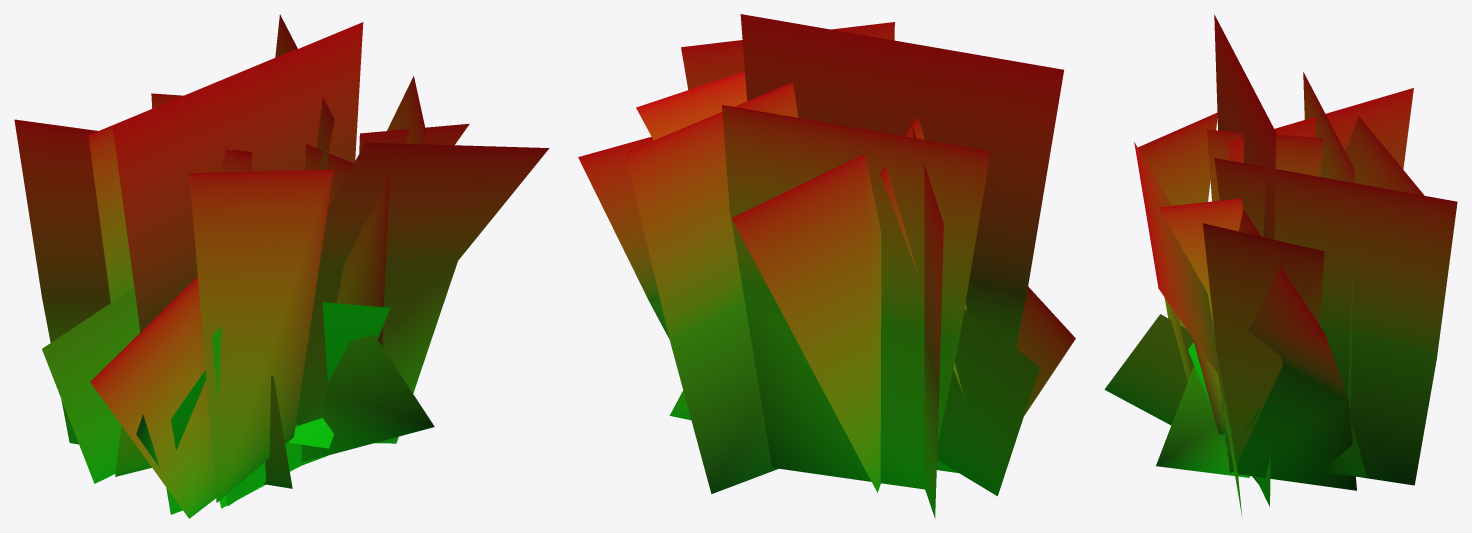
File: DrySet01_Var7_LOD1.fbx
3 renders of one model, left to right at view 1: azimuth 30°, elevation 25°; view 2: azimuth 150°, elevation 25°; view 3: azimuth 270°, elevation 25°, orthographic. The views are drawn at different scales.
Parts seen in each view (by area): view 1: DrySet01_Var7_LOD1; view 2: DrySet01_Var7_LOD1; view 3: DrySet01_Var7_LOD1.
Part boxes in pixels (x1,y1,x2,y2): DrySet01_Var7_LOD1: [14, 14, 549, 518]; DrySet01_Var7_LOD1: [578, 14, 1075, 518]; DrySet01_Var7_LOD1: [1104, 14, 1457, 517].
Bounding box in the file's own units: 38.37 × 35.81 × 28.87.
